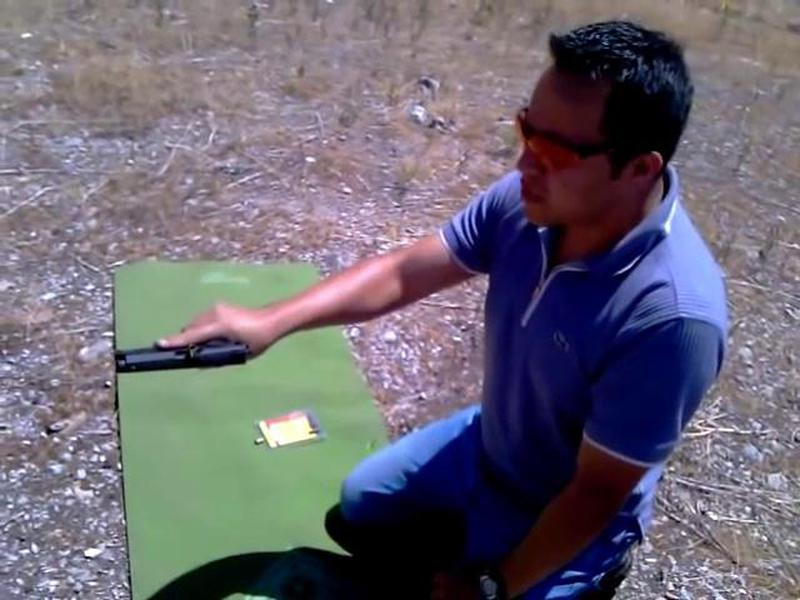Pistola: (103, 328, 268, 389)
